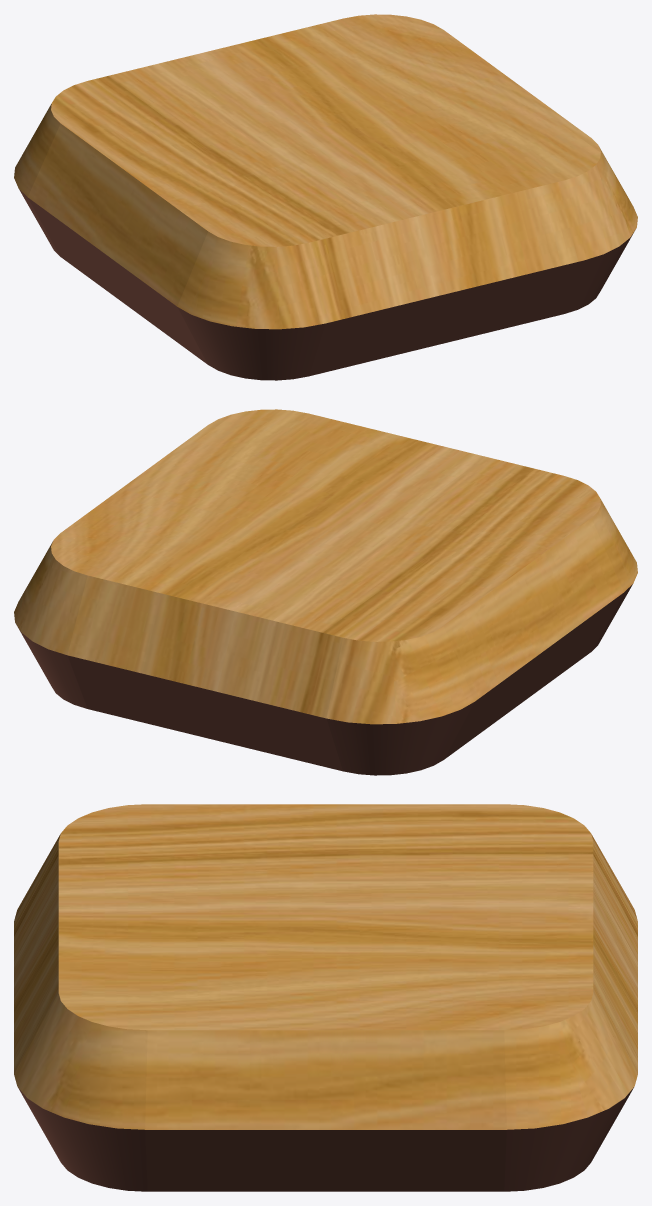
Rendered from bagaani.glb.
3 renders of one model, top to bottom at view 1: azimuth 30°, elevation 25°; view 2: azimuth 150°, elevation 25°; view 3: azimuth 270°, elevation 25°, orthographic. The views are drawn at different scales.
Parts seen in each view (by area): view 1: Rectangle1001, Rectangle0001; view 2: Rectangle1001, Rectangle0001; view 3: Rectangle1001, Rectangle0001.
Boxes of the visible parts, left/top/right/bottom form: Rectangle1001: left=14, top=14, right=637, bottom=329; Rectangle0001: left=19, top=189, right=634, bottom=380; Rectangle1001: left=14, top=409, right=637, bottom=724; Rectangle0001: left=17, top=584, right=632, bottom=775; Rectangle1001: left=14, top=804, right=637, bottom=1129; Rectangle0001: left=18, top=1087, right=633, bottom=1191.
Size of the model in its own units: 3.5 by 1 by 3.5.
2 materials, 1 textured.
